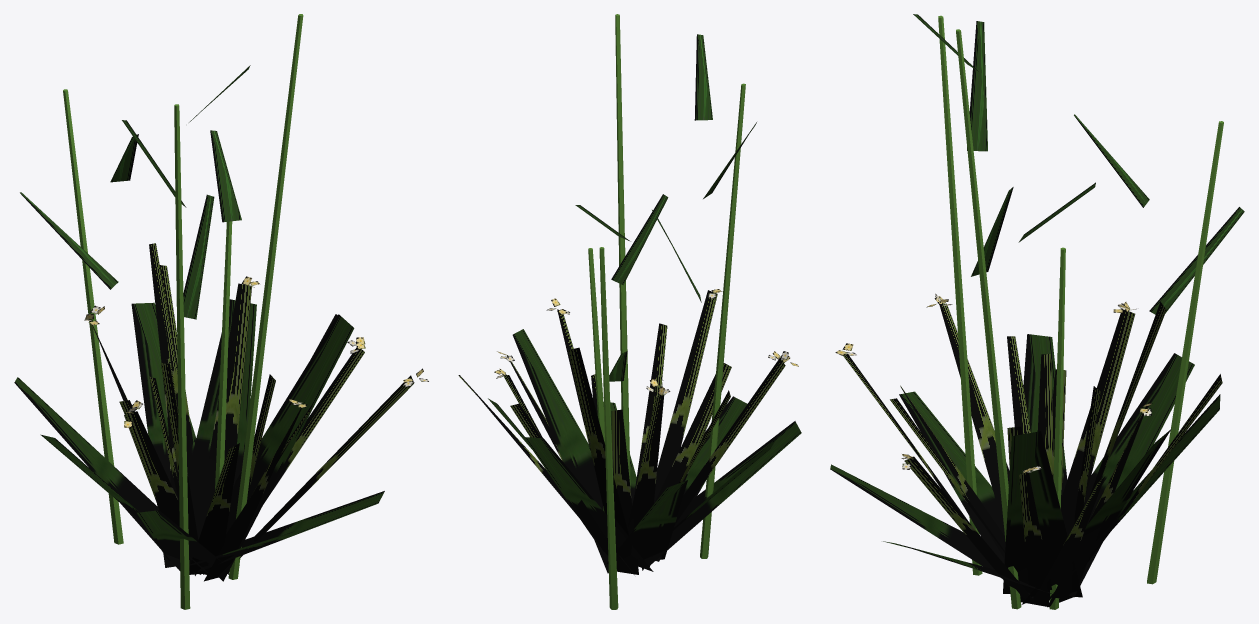
File: lib_lib_shrub_under.lod.glb
3 views of the same model, side by side, from view 1: azimuth 30°, elevation 25°; view 2: azimuth 150°, elevation 25°; view 3: azimuth 270°, elevation 25° (orthographic). The views are drawn at different scales.
Parts seen in each view (by area): view 1: fern, weed, bamboo_shoot; view 2: weed, fern, bamboo_shoot; view 3: weed, fern, bamboo_shoot.
Part boxes in pixels (box(x1,y1,x2,y2)): fern: box(14, 299, 384, 581); weed: box(84, 243, 428, 581); bamboo_shoot: box(20, 14, 303, 609); weed: box(458, 289, 798, 574); fern: box(488, 329, 801, 574); bamboo_shoot: box(575, 14, 756, 609); weed: box(835, 293, 1222, 607); fern: box(830, 334, 1220, 605); bamboo_shoot: box(913, 14, 1244, 609).
Bounding box in the file's own units: 0.8299 × 1.39 × 0.8759.
Materials: 2 (1 with a texture image).
